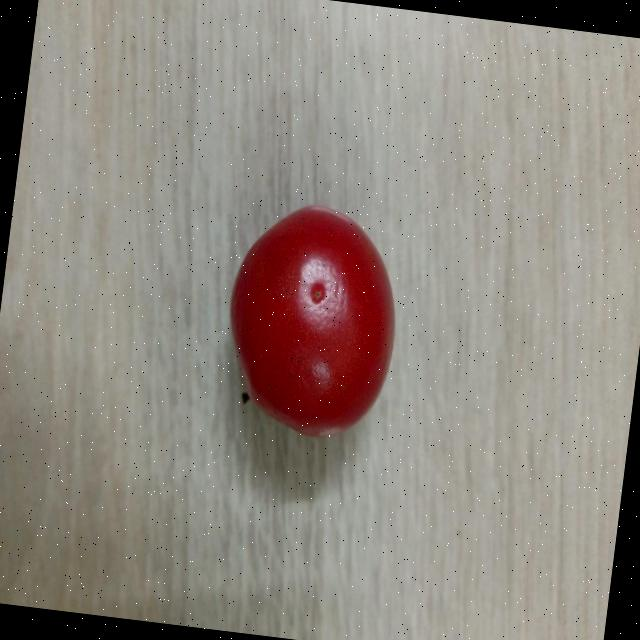Ripe: (211, 190, 413, 448)
